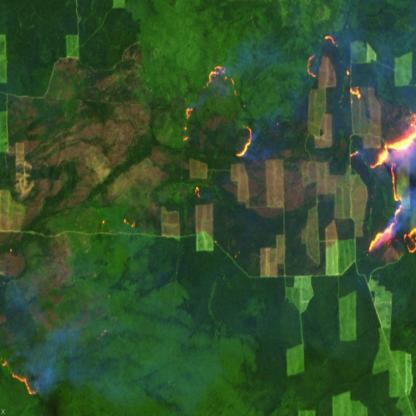fire: (365, 100, 416, 280), (182, 62, 254, 163), (306, 32, 362, 100), (0, 356, 42, 400)
